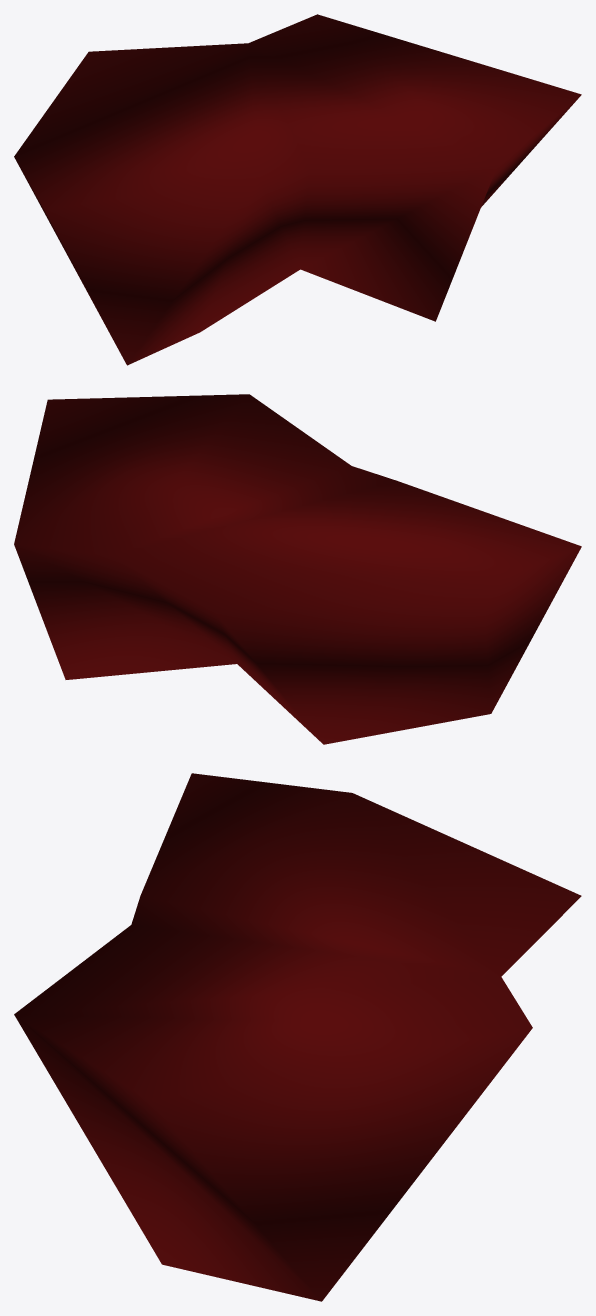
Rendered from Ile_3_Collision.FBX.
3 renders of one model, top to bottom at view 1: azimuth 30°, elevation 25°; view 2: azimuth 150°, elevation 25°; view 3: azimuth 270°, elevation 25°, orthographic. The views are drawn at different scales.
Parts seen in each view (by area): view 1: Ile_3_Collision; view 2: Ile_3_Collision; view 3: Ile_3_Collision.
Boxes of the visible parts, left/top/right/bottom form: Ile_3_Collision: left=14, top=14, right=581, bottom=365; Ile_3_Collision: left=14, top=394, right=581, bottom=744; Ile_3_Collision: left=14, top=773, right=581, bottom=1301.
Bounding box in the file's own units: 4704 × 3443 × 1758.
